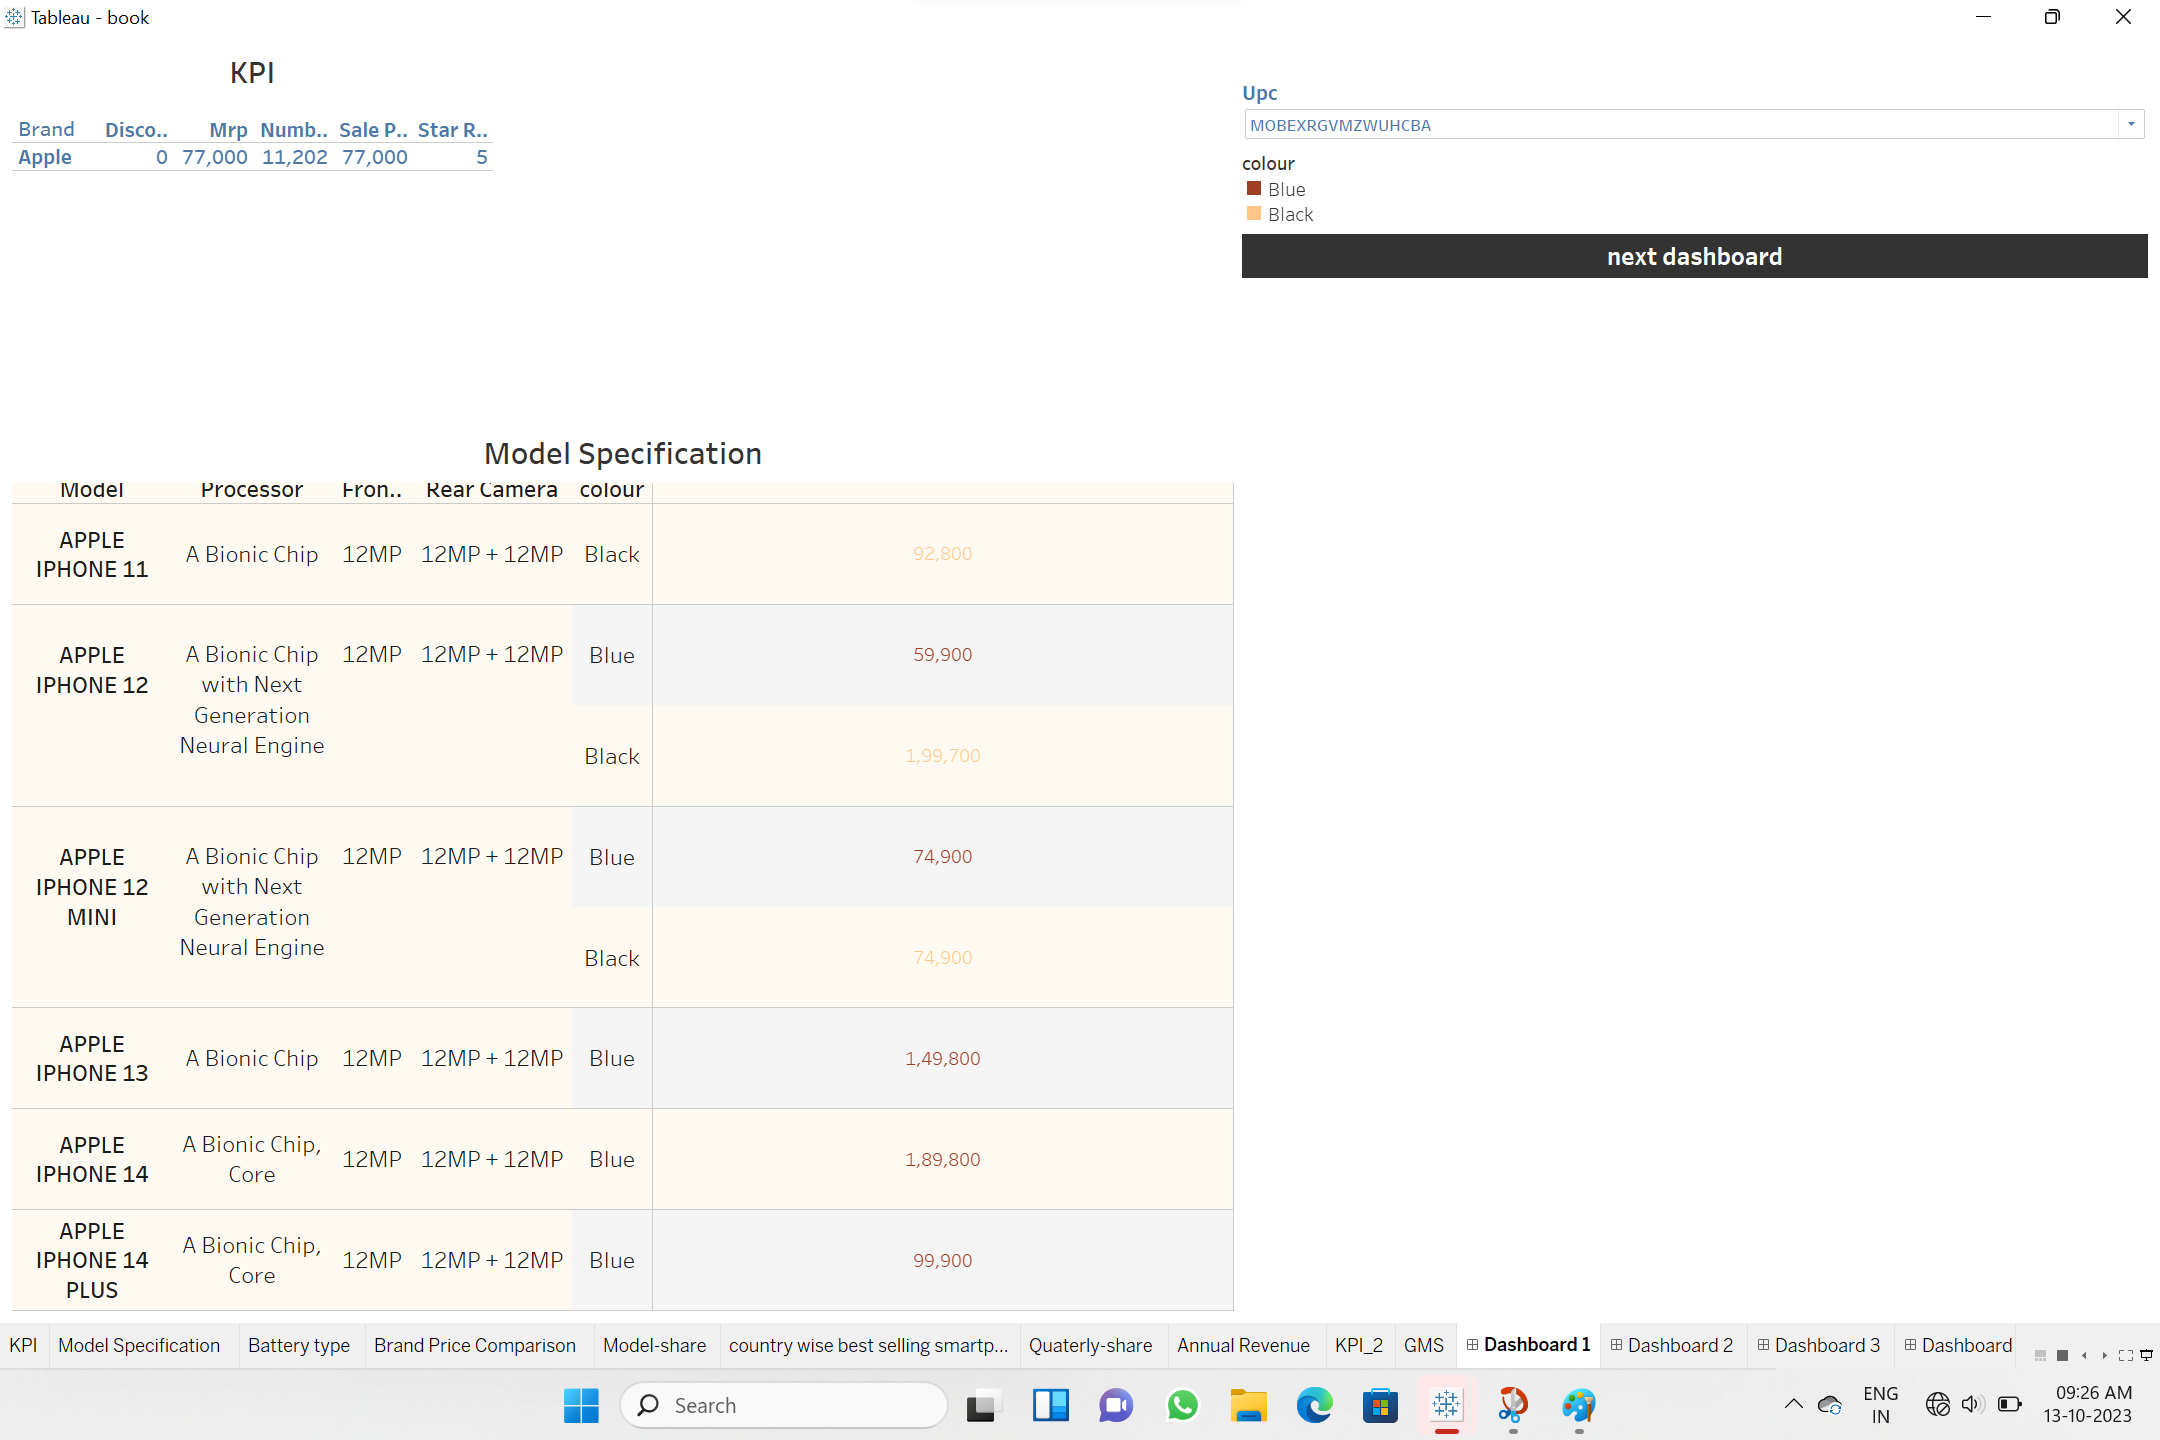

Layout of this report page (visuals, bound fields, positions):
{"tool":"tableau","page":{"name":"Dashboard 1","canvas":[1000,1000],"units":"permille","ordinal":0},"visuals":[{"type":"worksheet","title":"KPI","mark":"Automatic","rows":["Brand"],"box":[3.7,6.2,569.5,295.4]},{"type":"blank","box":[573.1,6.2,423.2,24.8]},{"type":"filter","title":"KPI","param":"[federated.1lhbrvm0p3k8am1gcjjid1nfxdao].[none:Upc:nk]","box":[573.1,31,423.2,55.9]},{"type":"legend","title":"Model Specification","param":"[federated.0iqjv8w0qiwri211vwyue11ahui3].[none:colour:nk]","box":[573.1,86.9,423.2,65.2]},{"type":"dashboard-object","box":[573.1,152.1,423.2,40.3]},{"type":"worksheet","title":"Model Specification","mark":"Automatic","rows":["model","processor","front_camera","rear_camera","colour"],"box":[3.7,301.6,569.5,692.2]}]}

Visuals, with their boxes on the dashboard's canvas, which has no fixed pixel size, in thousandths of its width and height (x1, y1, x2, y2). These are canvas units, not pixel positions in the 2160x1440 screenshot, which may show the page scaled, cropped or inside an application window:
"KPI" worksheet: region(4, 6, 573, 302)
blank: region(573, 6, 996, 31)
"KPI" filter: region(573, 31, 996, 87)
"Model Specification" legend: region(573, 87, 996, 152)
dashboard-object: region(573, 152, 996, 192)
"Model Specification" worksheet: region(4, 302, 573, 994)
